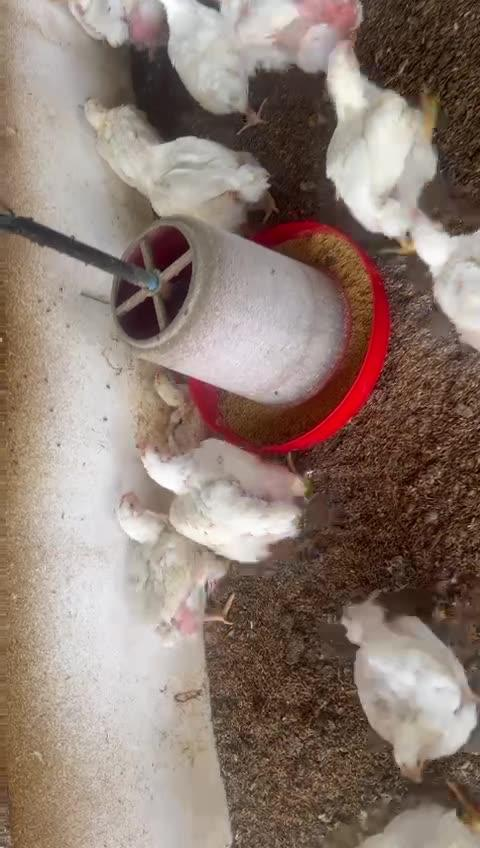AbNormal: (339, 599, 478, 781), (150, 364, 209, 450), (80, 95, 158, 159)
Normal: (324, 39, 438, 225), (134, 435, 310, 554), (117, 487, 236, 634), (117, 137, 275, 235), (158, 0, 271, 119), (405, 205, 480, 349), (225, 0, 366, 67), (67, 0, 174, 48), (354, 804, 480, 842)
